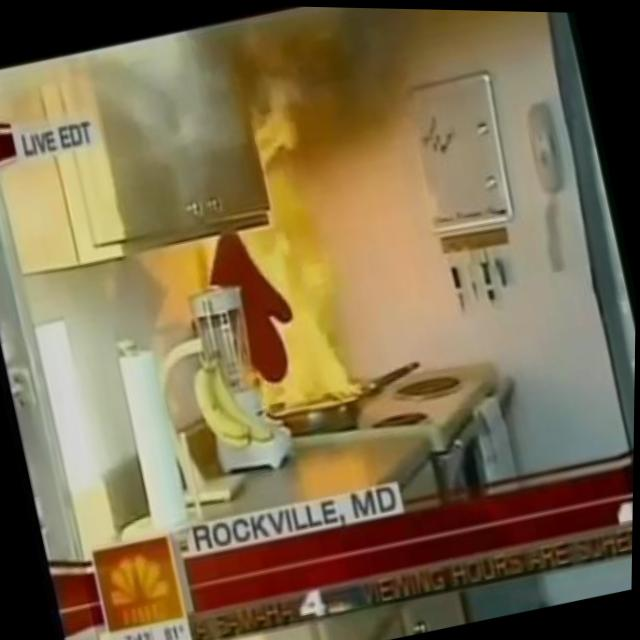fire: (177, 79, 379, 426)
